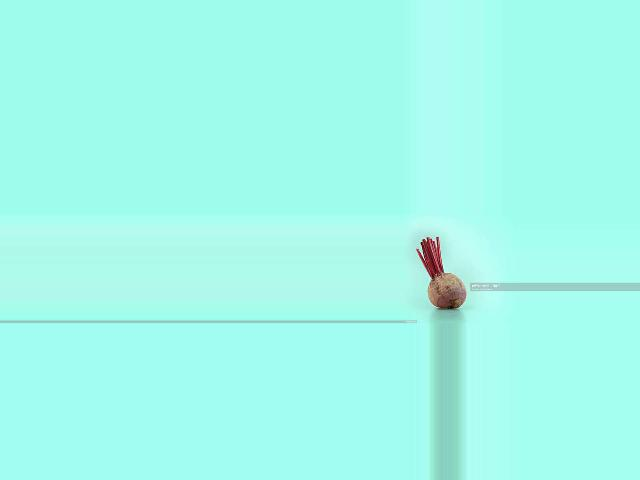beet: (417, 237, 467, 309)
